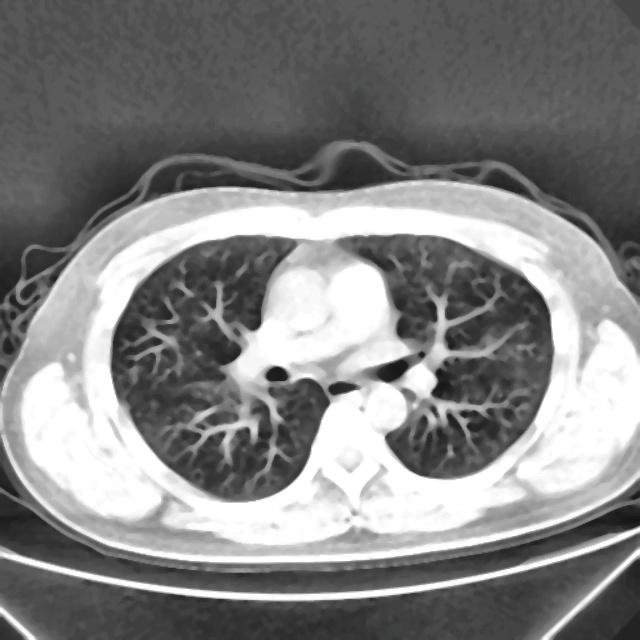covid: (0, 143, 639, 573)
